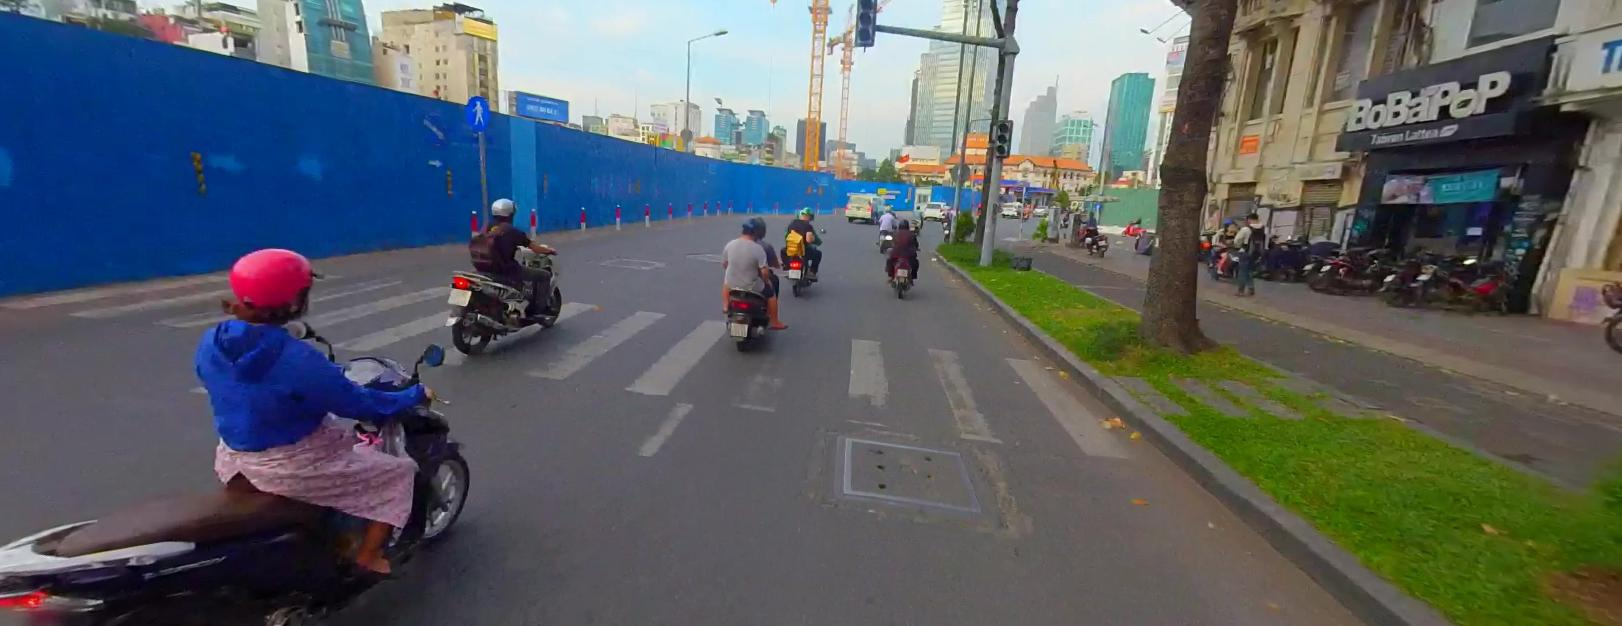Hieu lenh: (462, 93, 491, 129)
